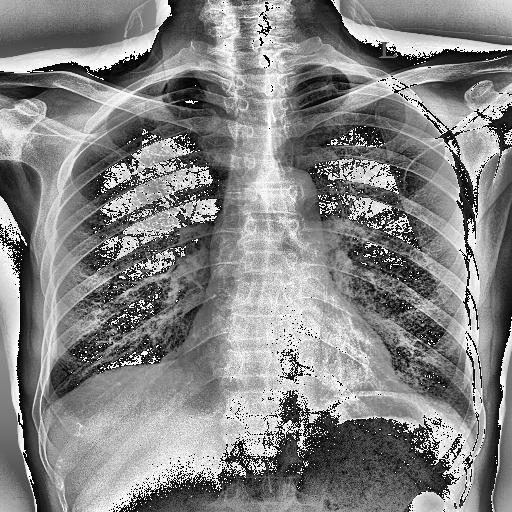11- Pleural thickening: (20, 362, 83, 420)
5- ILD: (301, 191, 477, 431), (40, 234, 200, 407), (340, 232, 469, 423), (63, 228, 191, 394), (307, 227, 434, 393)
